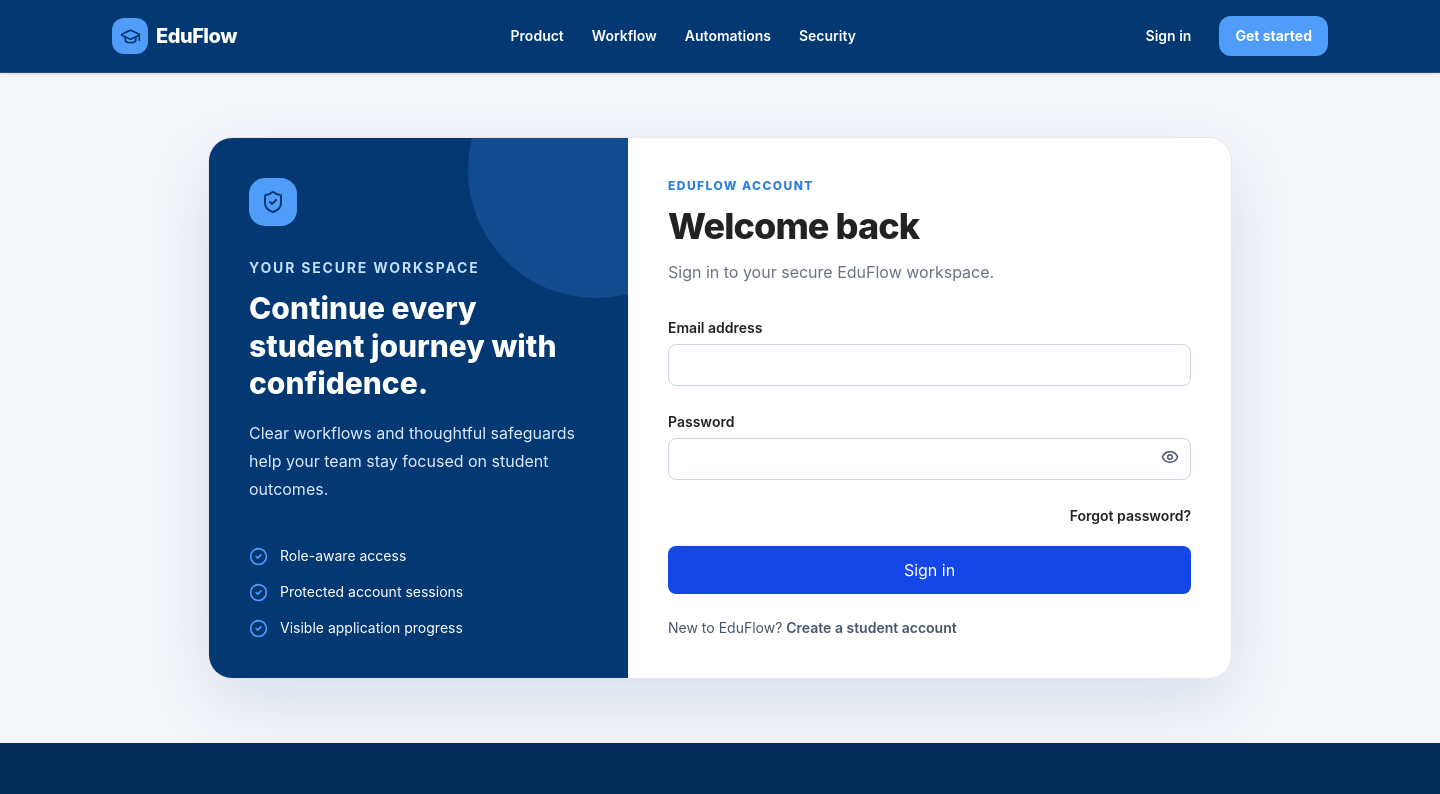
Scenario: verification and recovery email interfaces › does not retry CSRF recovery indefinitely and replaces technical wording
The image size is (1440, 794).
In the field labelled "Email address": (930, 365) [668, 344, 1191, 386], type "student@example.test"
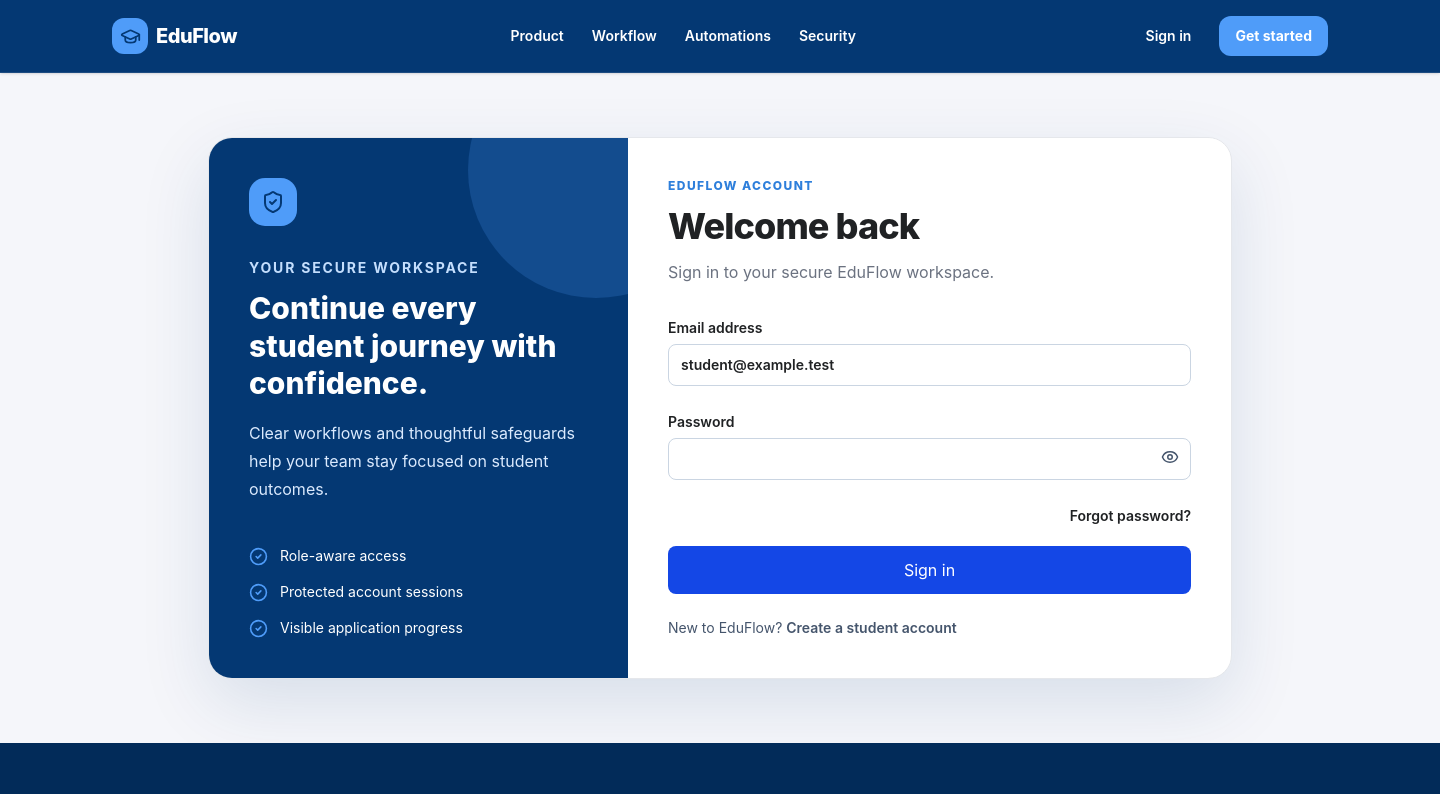
In the password field labelled "Password": (930, 459) [668, 438, 1191, 480], type "Password-Test7!"
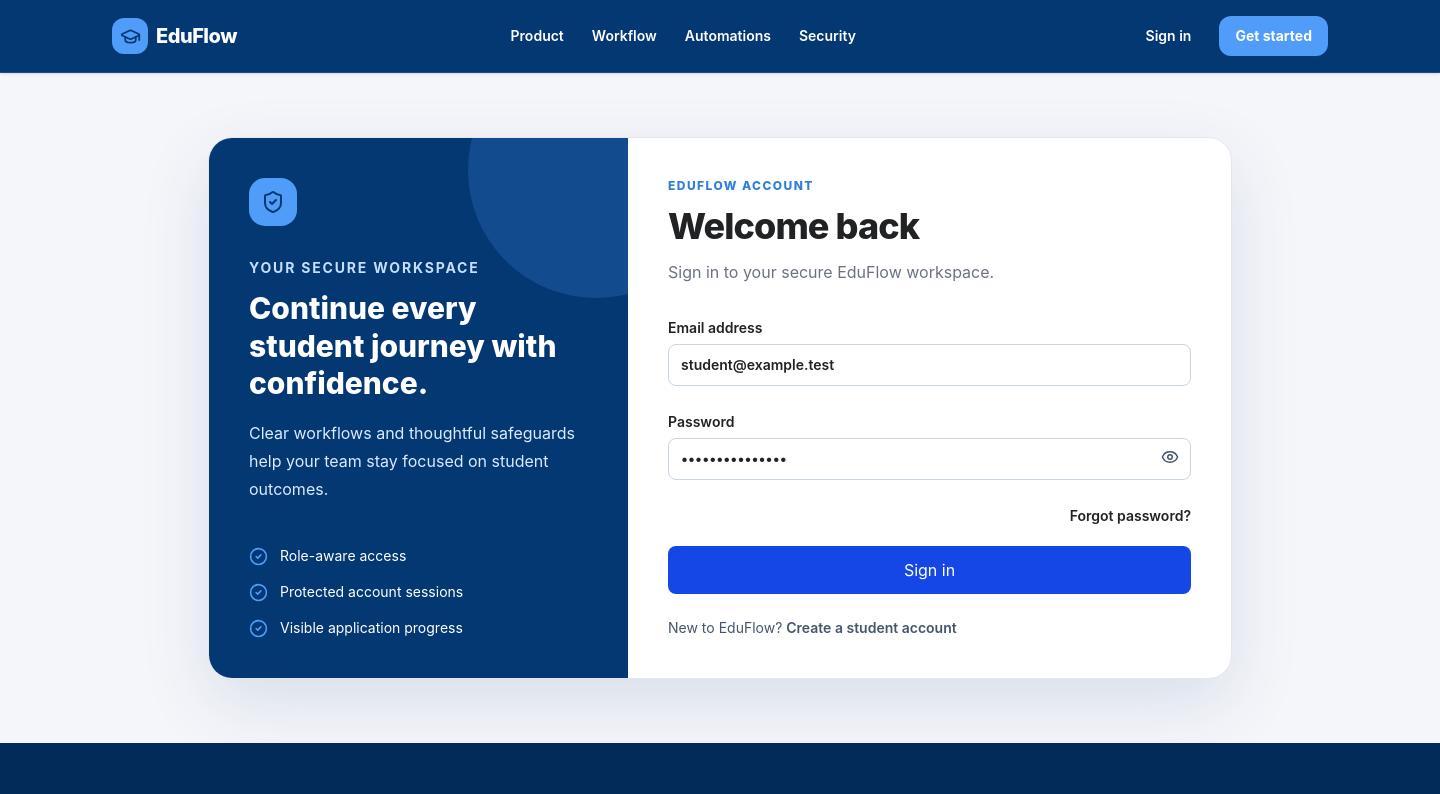
Click the button "Sign in": (930, 570) [668, 546, 1191, 594]
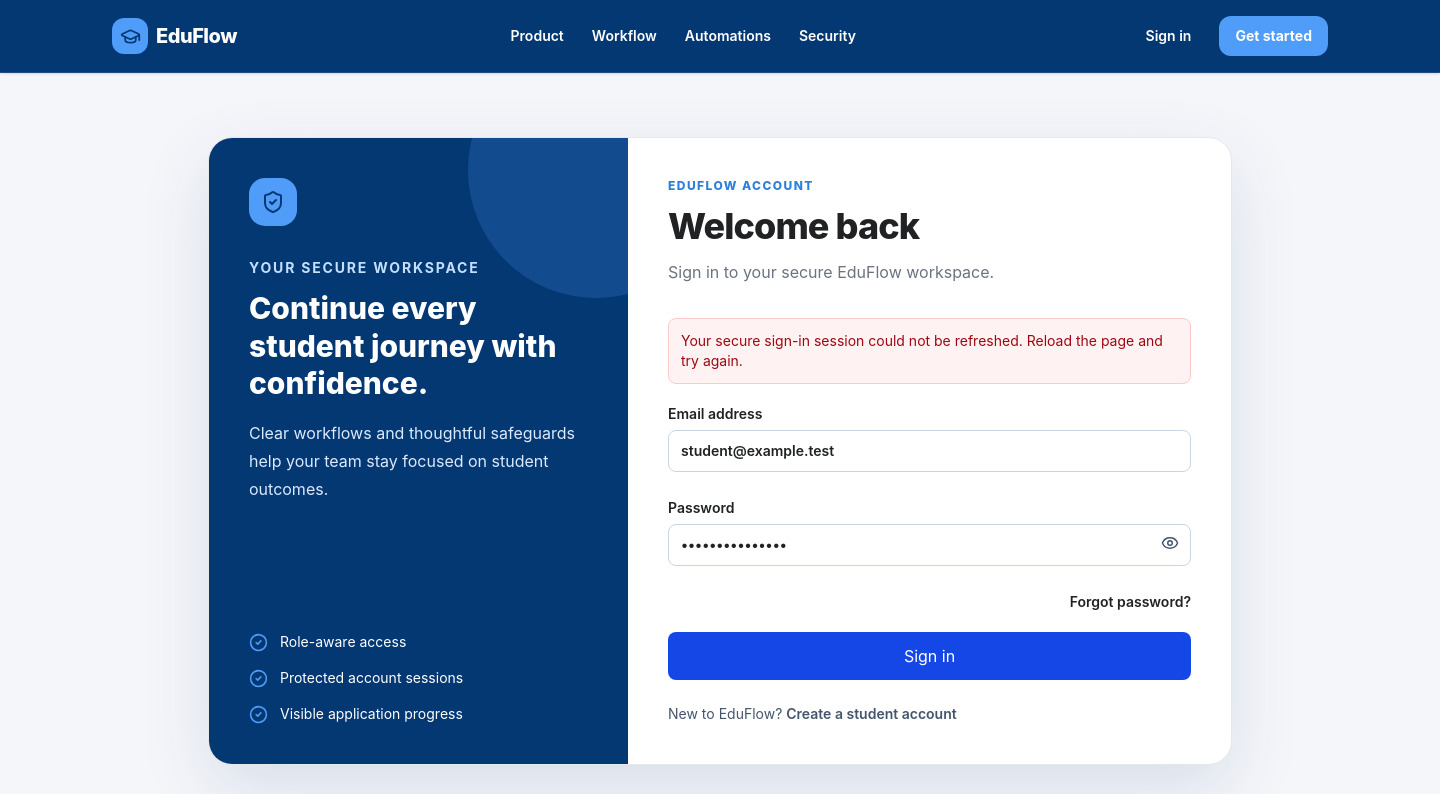
Check: the message does not show "CSRF token", box [668, 318, 1191, 384]
Check: the message shows "secure sign-in session could not be refreshed", box [681, 332, 1163, 369]
